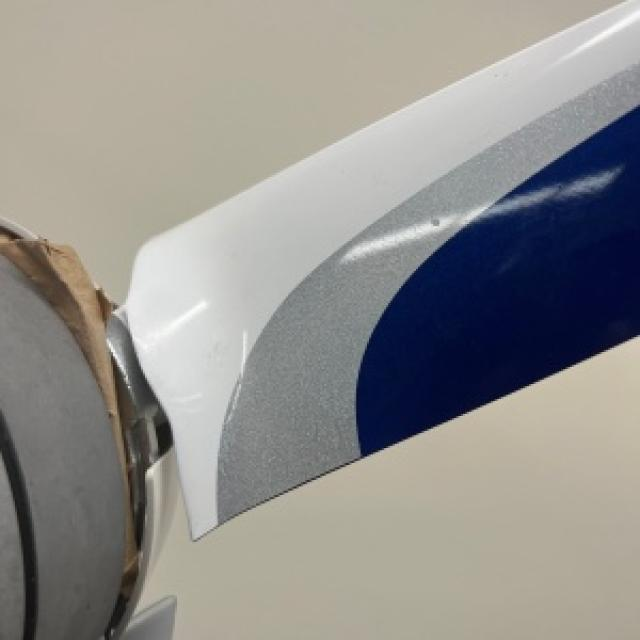healthy: (141, 337, 638, 638)
